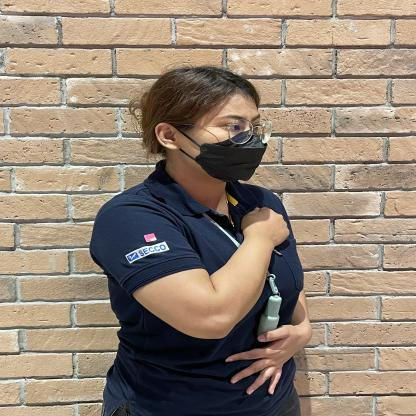Sadness: (110, 193, 341, 331)
